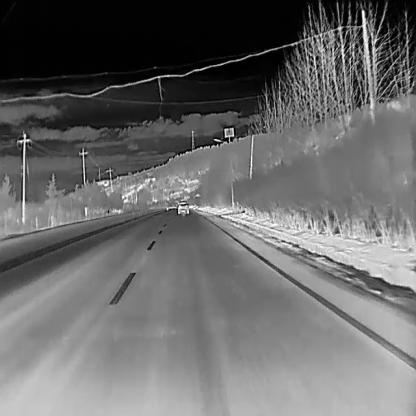car: (177, 199, 189, 214)
